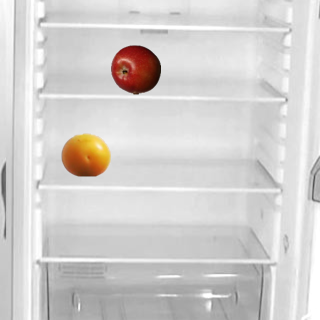Apple Braeburn: (110, 44, 160, 94)
Cherry Wax Yellow: (60, 129, 110, 179)
